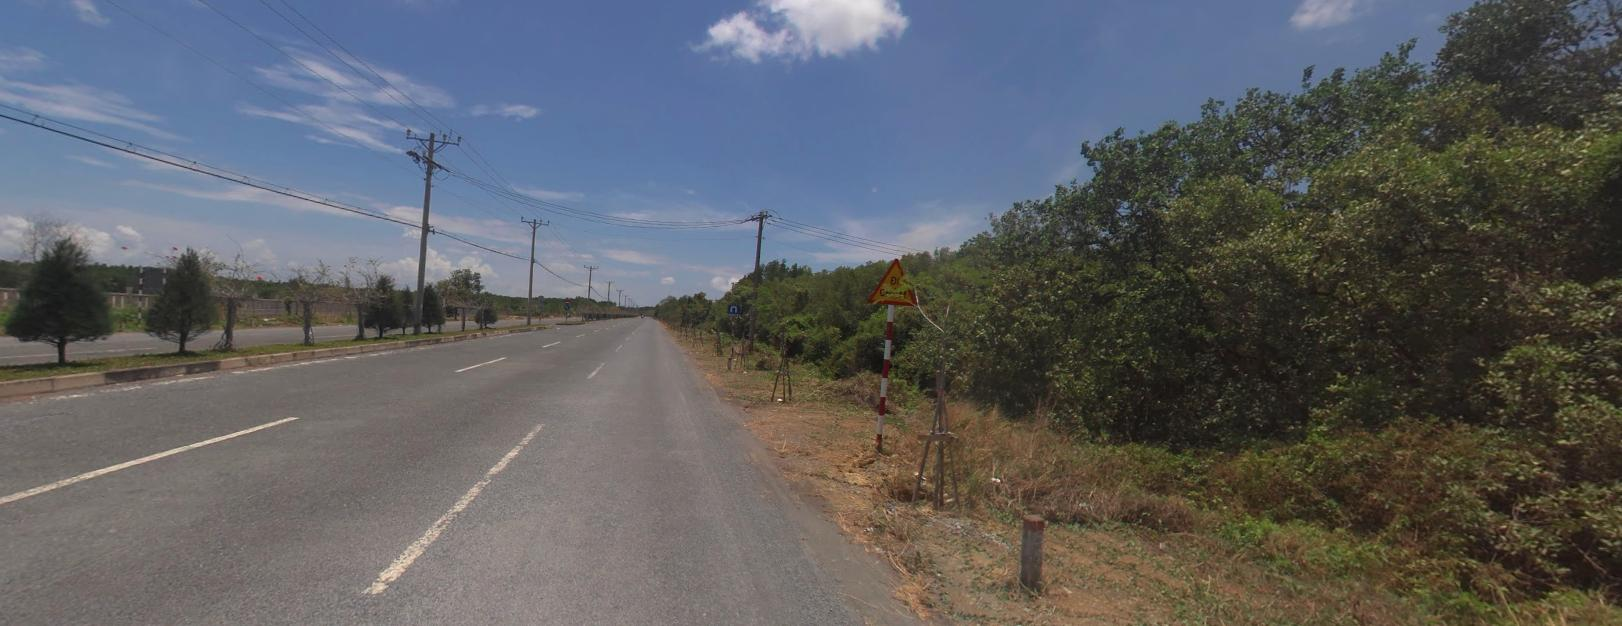Cam nguoc chieu: (564, 297, 570, 302)
Hieu lenh: (563, 303, 568, 308)
Nguy hiem: (868, 256, 917, 304)
